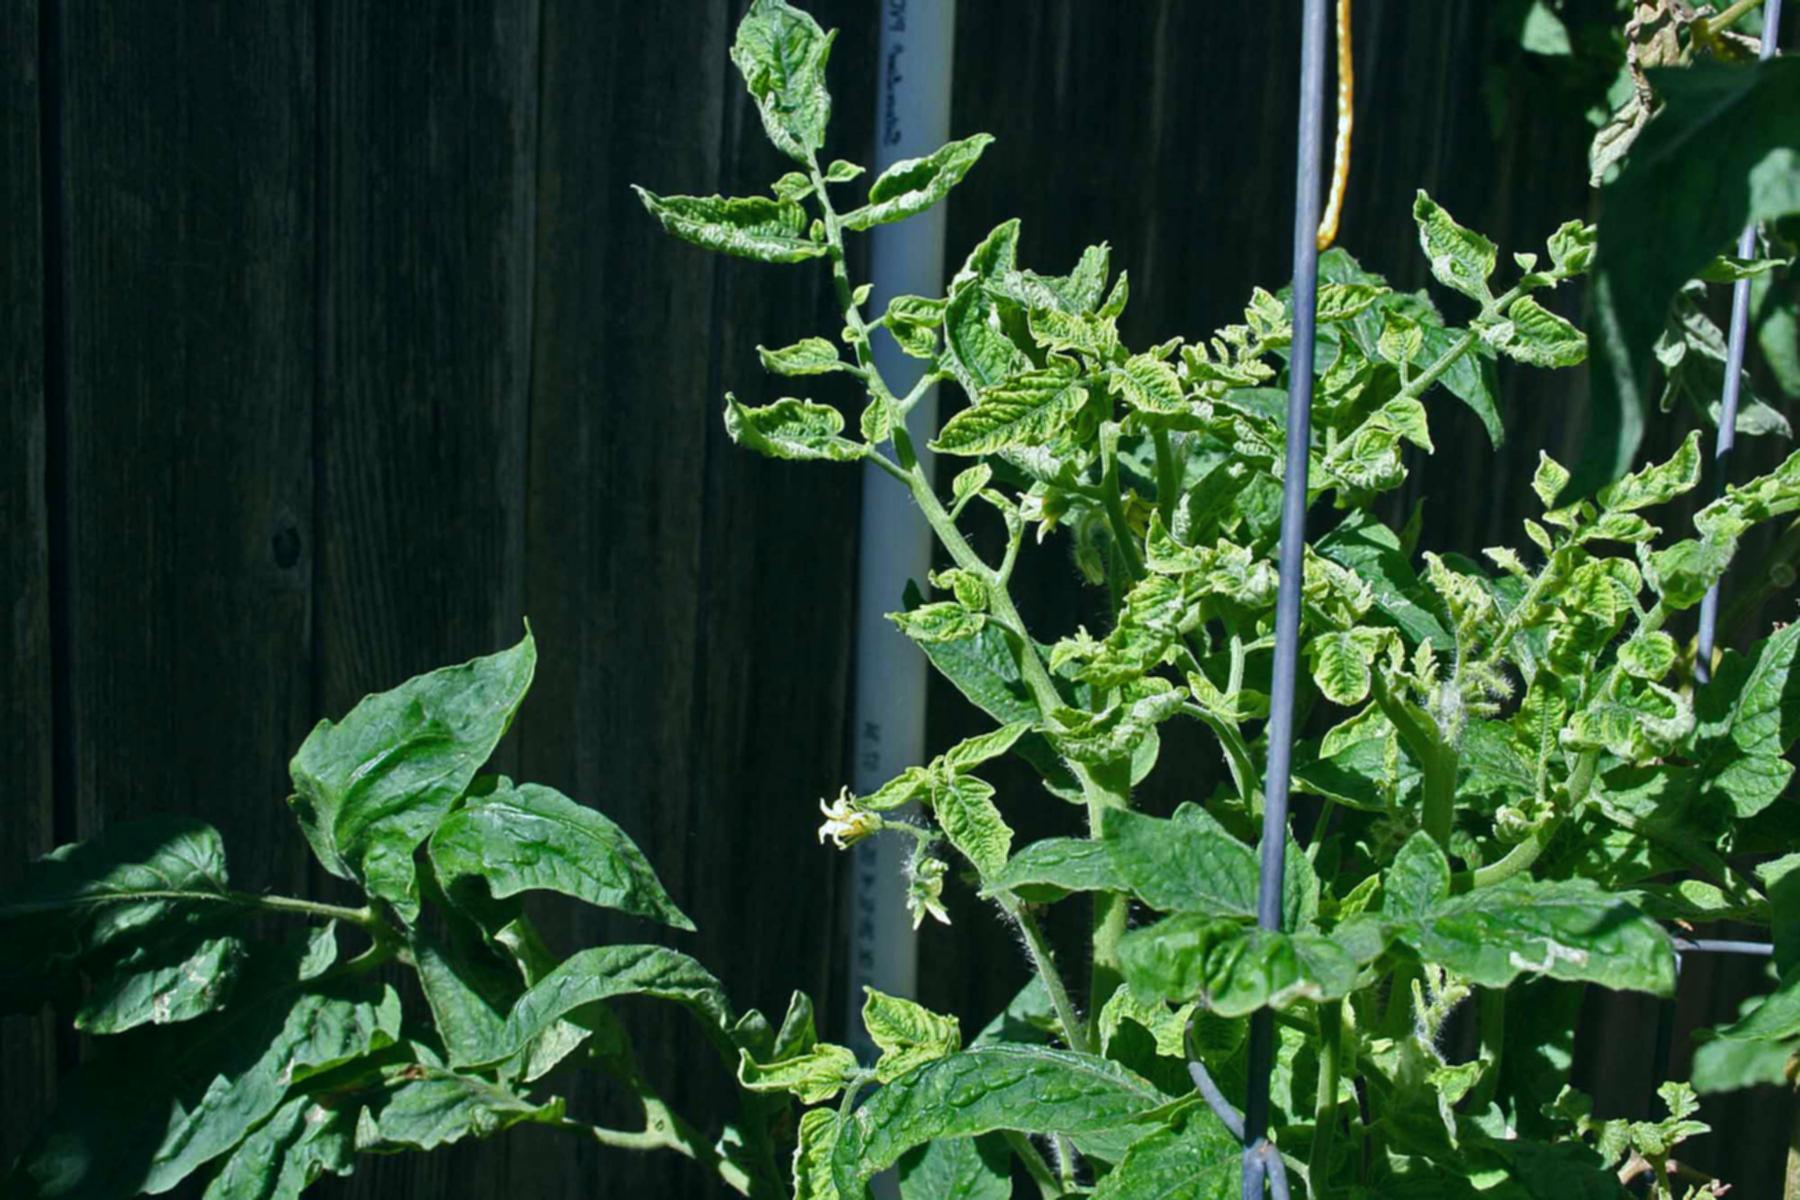Tomato leaf yellow virus: (1371, 842, 1702, 1008), (1083, 794, 1317, 937), (1077, 516, 1233, 686), (605, 173, 838, 283), (686, 384, 884, 483), (932, 360, 1108, 469), (733, 1, 846, 159), (903, 753, 1034, 885), (1590, 408, 1708, 529), (1400, 183, 1499, 303), (1554, 679, 1689, 762), (861, 572, 992, 650), (1096, 342, 1204, 433), (1011, 289, 1129, 367), (1303, 620, 1392, 717), (1544, 546, 1647, 625), (1495, 299, 1592, 378), (738, 325, 850, 384), (1603, 629, 1679, 691)
